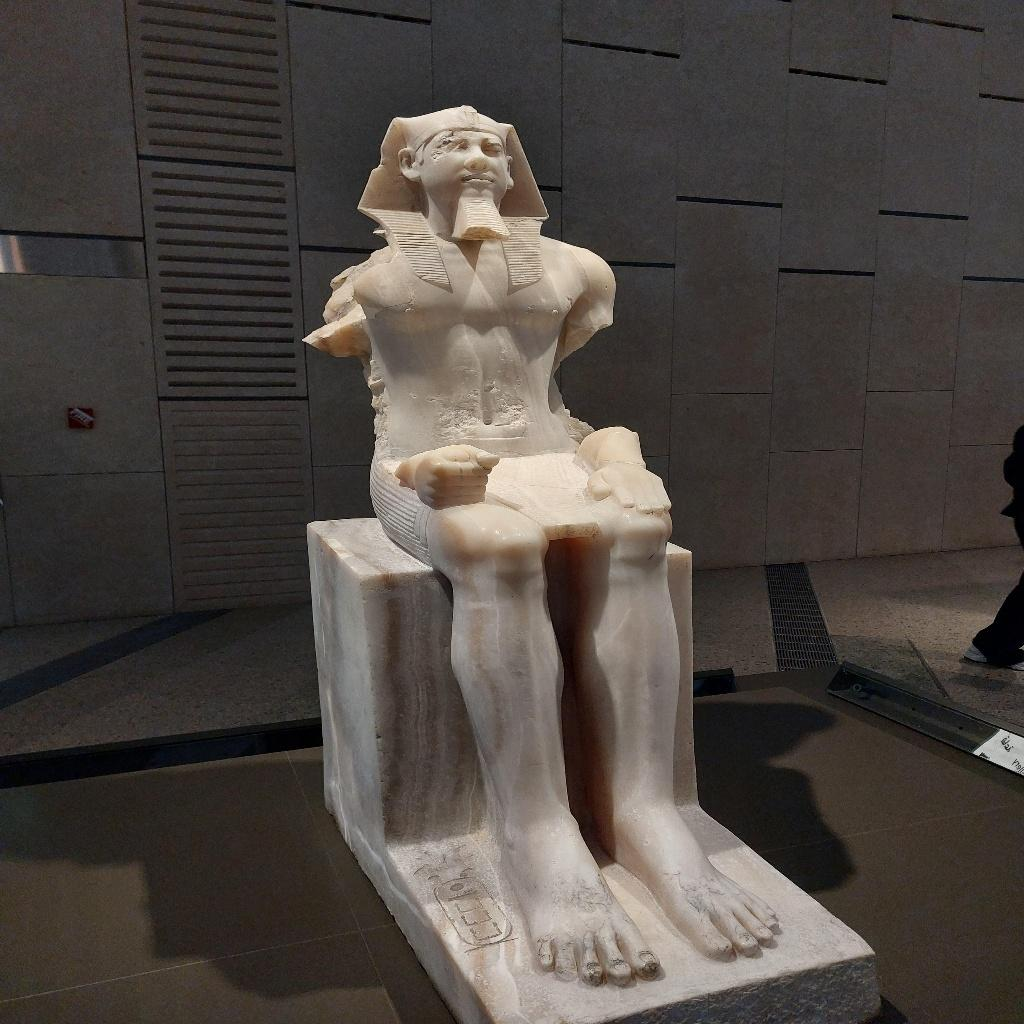Menkaure Statue: (298, 102, 789, 992)
